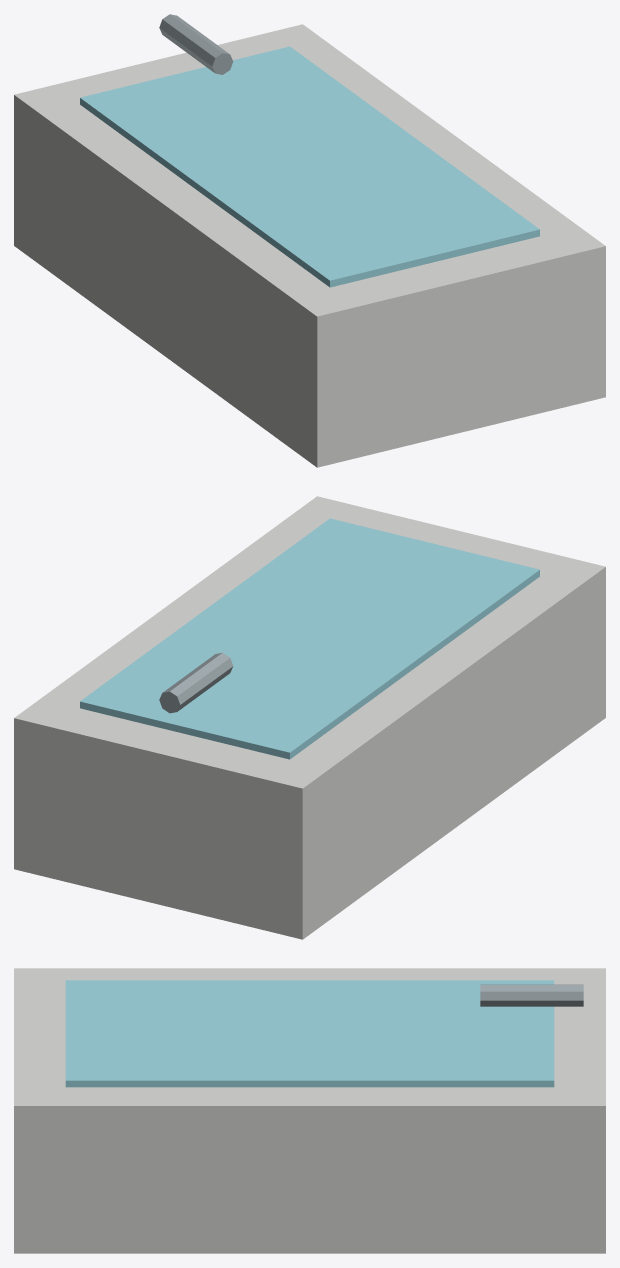
Rendered from bathtub_basic.glb.
The picture shows the model from 3 angles, top to bottom: view 1: azimuth 30°, elevation 25°; view 2: azimuth 150°, elevation 25°; view 3: azimuth 270°, elevation 25°; orthographic projection. The views are drawn at different scales.
Visible parts, largest first — view 1: part_00, part_01, part_02; view 2: part_00, part_01, part_02; view 3: part_00, part_01, part_02.
Boxes of the visible parts, <box> form: part_00: <box>14,24,605,467</box>; part_01: <box>80,46,539,287</box>; part_02: <box>159,14,233,74</box>; part_00: <box>14,496,605,939</box>; part_01: <box>80,518,539,759</box>; part_02: <box>159,652,233,713</box>; part_00: <box>14,968,605,1253</box>; part_01: <box>65,980,554,1087</box>; part_02: <box>480,984,583,1006</box>.
Bounding box in the file's own units: 1.1 × 0.745 × 2.
